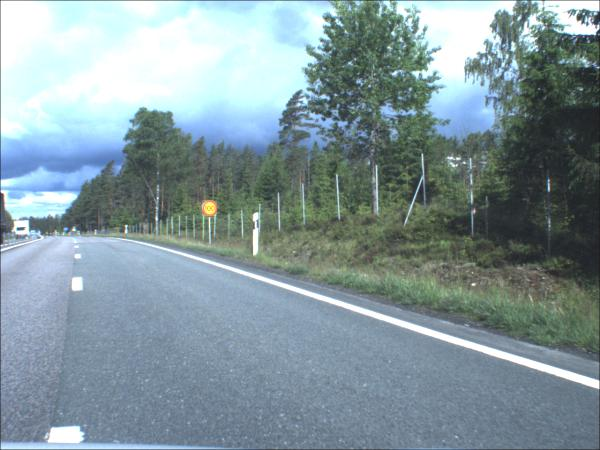100_SIGN: (203, 201, 219, 218)
